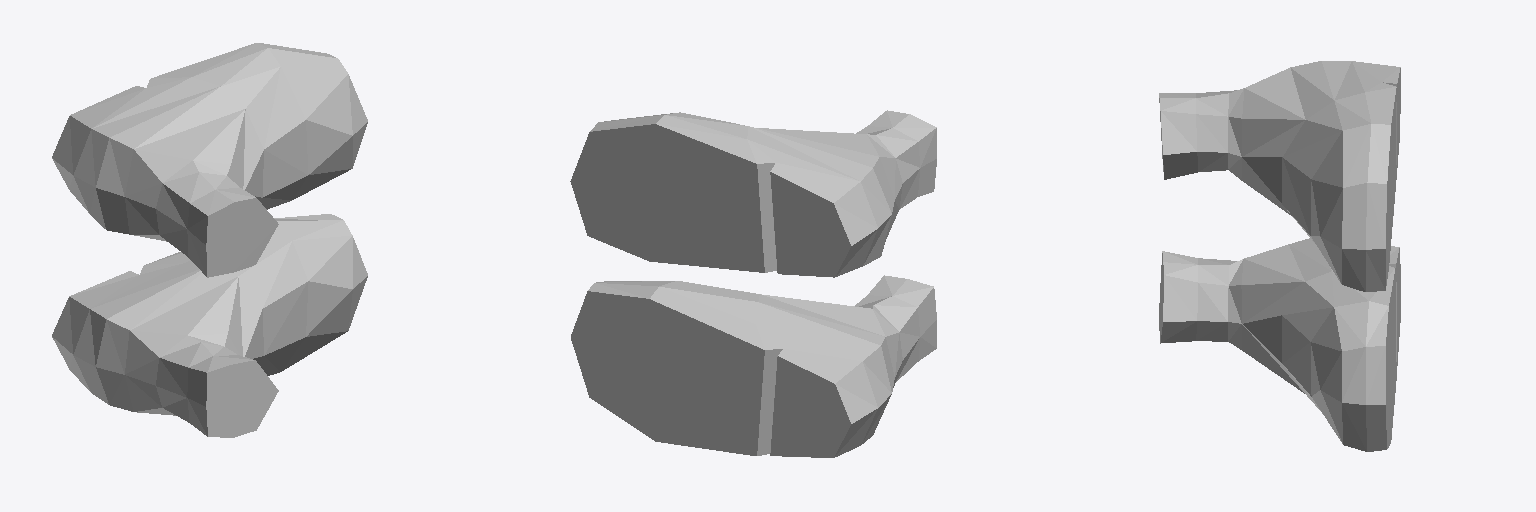
Rendered from 오리지널 신발.obj.
The picture shows the model from 3 angles: view 1: azimuth 30°, elevation 25°; view 2: azimuth 150°, elevation 25°; view 3: azimuth 270°, elevation 25°; orthographic projection.
Visible parts, largest first — view 1: vr_foot_003; view 2: vr_foot_003; view 3: vr_foot_003.
Boxes of the visible parts, <box> form: vr_foot_003: <box>52,43,367,437</box>; vr_foot_003: <box>570,110,936,457</box>; vr_foot_003: <box>1159,61,1400,451</box>.
Size of the model in its own units: 34.85 by 36.49 by 24.93.